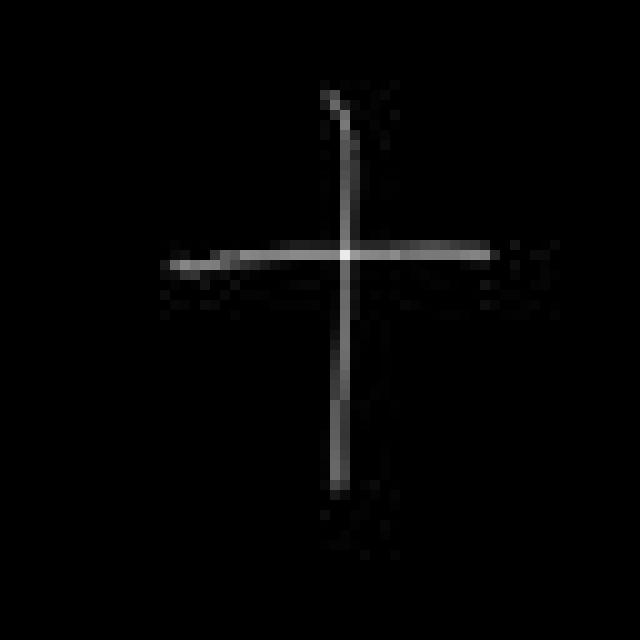10 -ten-: (160, 84, 502, 499)
